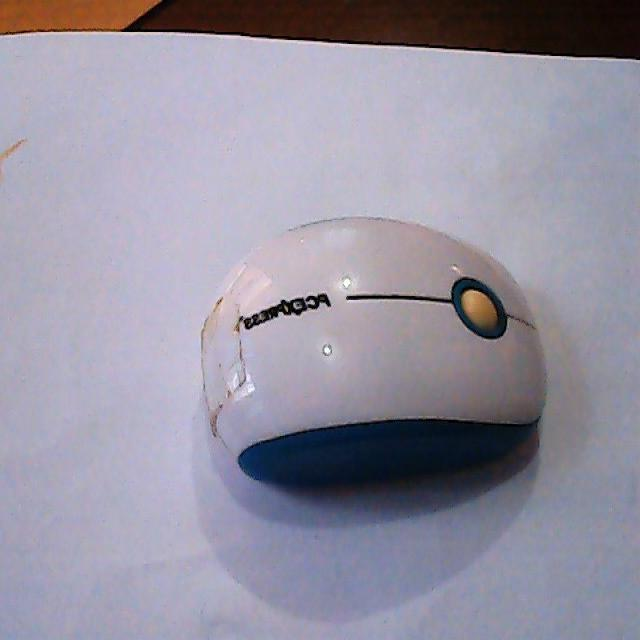mouse: (169, 223, 525, 502)
